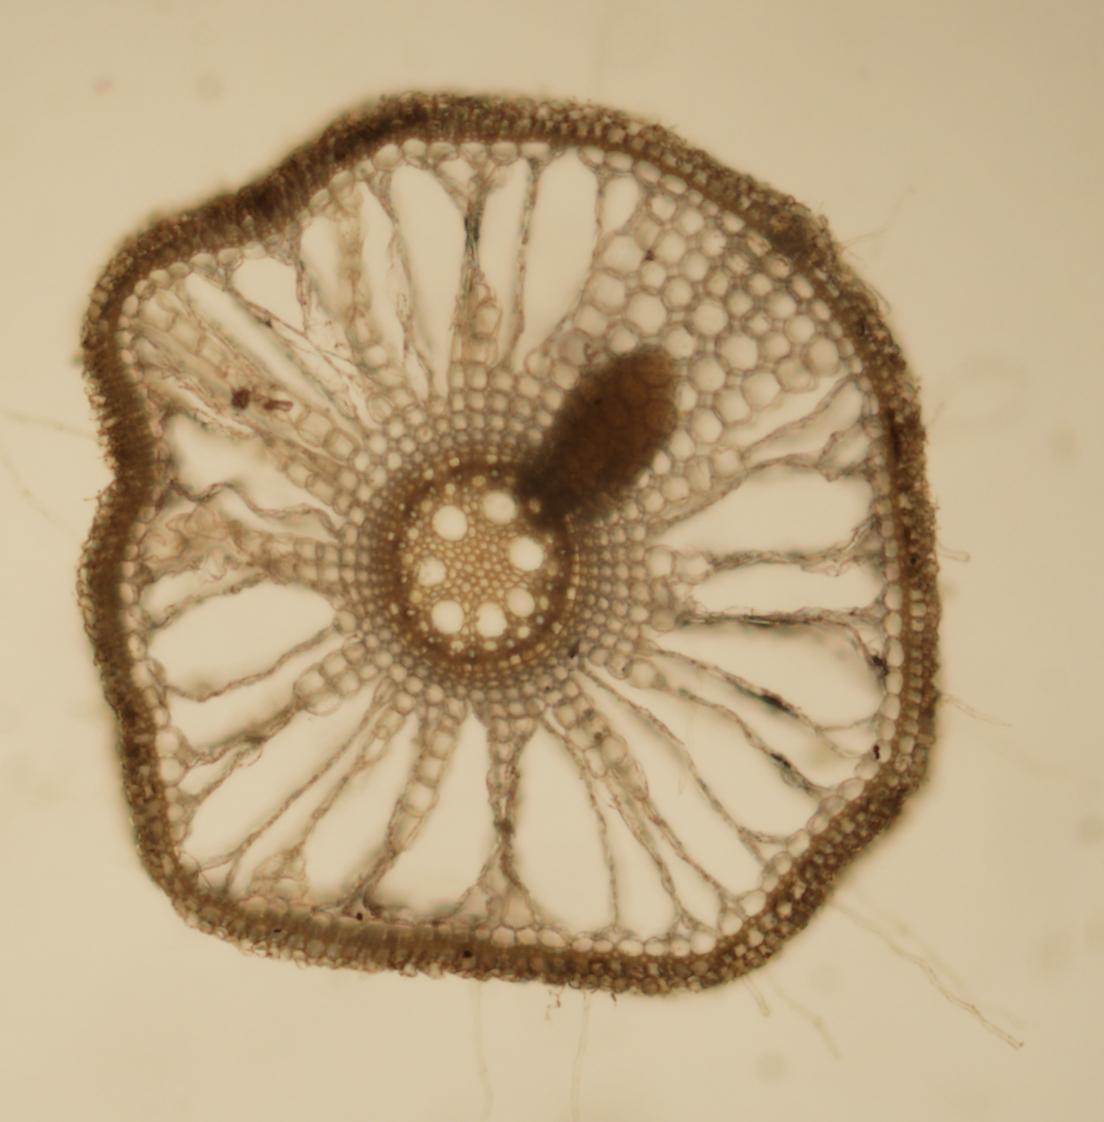lm: (507, 535, 547, 571), (432, 505, 468, 541), (431, 599, 465, 634), (482, 491, 518, 525), (474, 601, 508, 637), (413, 555, 447, 587), (505, 587, 535, 617)
